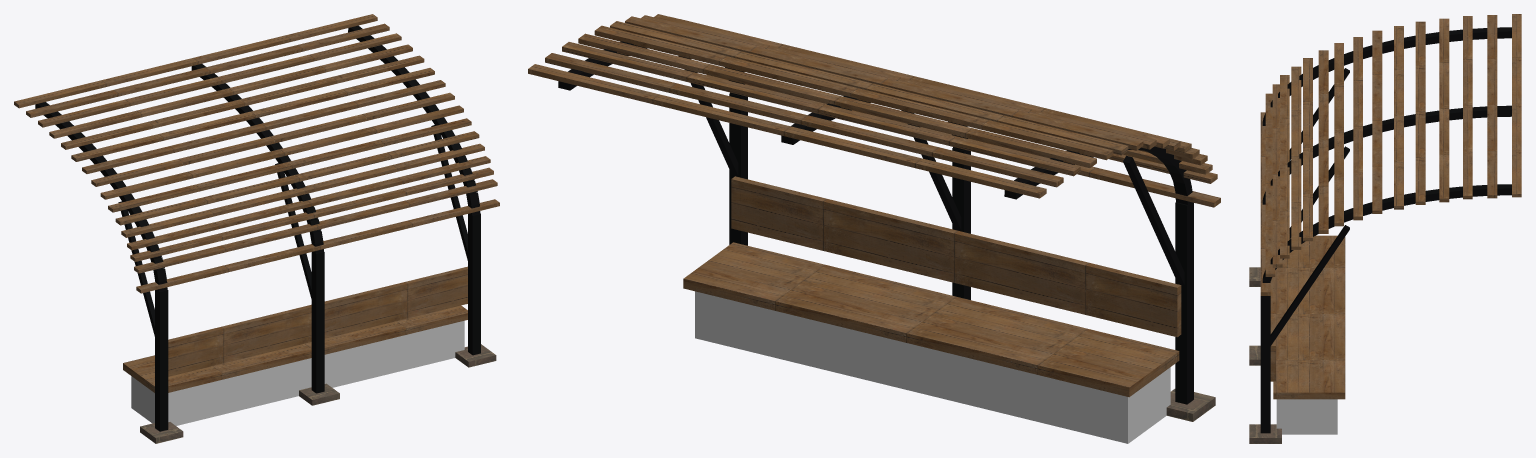
The model's file is 04 Sunshade Seats.obj.
The picture shows the model from 3 angles, left to right: view 1: azimuth 30°, elevation 25°; view 2: azimuth 150°, elevation 25°; view 3: azimuth 270°, elevation 25°; orthographic projection. The views are drawn at different scales.
Parts seen in each view (by area): view 1: SiteA_ArcadeShadeSeat_canopy_slats, SiteA_ArcadeShadeSeat_steel_ribs, SiteA_ArcadeShadeSeat_bench_backrest, SiteA_ArcadeShadeSeat_bench_base, SiteA_ArcadeShadeSeat_bench_seat, SiteA_ArcadeShadeSeat_footings; view 2: SiteA_ArcadeShadeSeat_canopy_slats, SiteA_ArcadeShadeSeat_bench_seat, SiteA_ArcadeShadeSeat_bench_backrest, SiteA_ArcadeShadeSeat_bench_base, SiteA_ArcadeShadeSeat_steel_ribs, SiteA_ArcadeShadeSeat_footings; view 3: SiteA_ArcadeShadeSeat_canopy_slats, SiteA_ArcadeShadeSeat_bench_seat, SiteA_ArcadeShadeSeat_steel_ribs, SiteA_ArcadeShadeSeat_bench_base, SiteA_ArcadeShadeSeat_footings, SiteA_ArcadeShadeSeat_bench_backrest.
Boxes of the visible parts, box(x1,y1,x2,y2) form: SiteA_ArcadeShadeSeat_canopy_slats: box(14, 14, 499, 293); SiteA_ArcadeShadeSeat_steel_ribs: box(35, 25, 480, 431); SiteA_ArcadeShadeSeat_bench_backrest: box(168, 266, 467, 376); SiteA_ArcadeShadeSeat_bench_base: box(131, 320, 464, 425); SiteA_ArcadeShadeSeat_bench_seat: box(123, 305, 467, 392); SiteA_ArcadeShadeSeat_footings: box(140, 344, 496, 443); SiteA_ArcadeShadeSeat_canopy_slats: box(528, 14, 1220, 207); SiteA_ArcadeShadeSeat_bench_seat: box(683, 242, 1179, 397); SiteA_ArcadeShadeSeat_bench_backrest: box(731, 176, 1181, 337); SiteA_ArcadeShadeSeat_bench_base: box(695, 291, 1170, 443); SiteA_ArcadeShadeSeat_steel_ribs: box(558, 41, 1193, 404); SiteA_ArcadeShadeSeat_footings: box(1166, 389, 1215, 421); SiteA_ArcadeShadeSeat_canopy_slats: box(1260, 14, 1521, 295); SiteA_ArcadeShadeSeat_bench_seat: box(1273, 235, 1345, 399); SiteA_ArcadeShadeSeat_steel_ribs: box(1260, 27, 1511, 433); SiteA_ArcadeShadeSeat_bench_base: box(1276, 399, 1337, 434); SiteA_ArcadeShadeSeat_footings: box(1249, 267, 1281, 443); SiteA_ArcadeShadeSeat_bench_backrest: box(1270, 270, 1275, 381).
Size of the model in its own units: 3.9 by 2.57 by 2.5.
4 materials, 2 textured.
